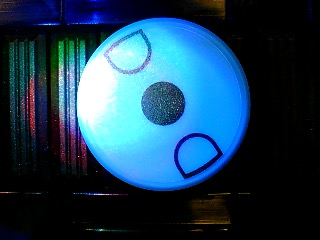BOHOMIPO2: (76, 16, 251, 192)
